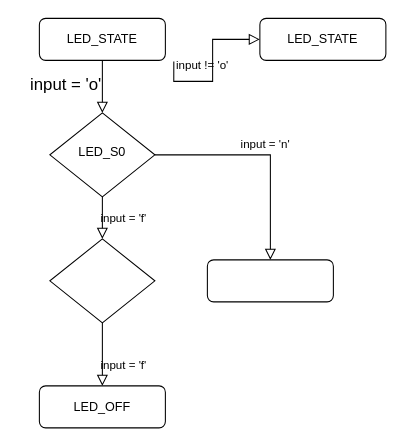
This 404x446 diagram has some shape labels left out. The shapes that lost their labels are listed below. From the top down, each one's centre as x and y in pixels, then its label:
(x=102, y=280): LED_S1
(x=269, y=280): LED_ON
